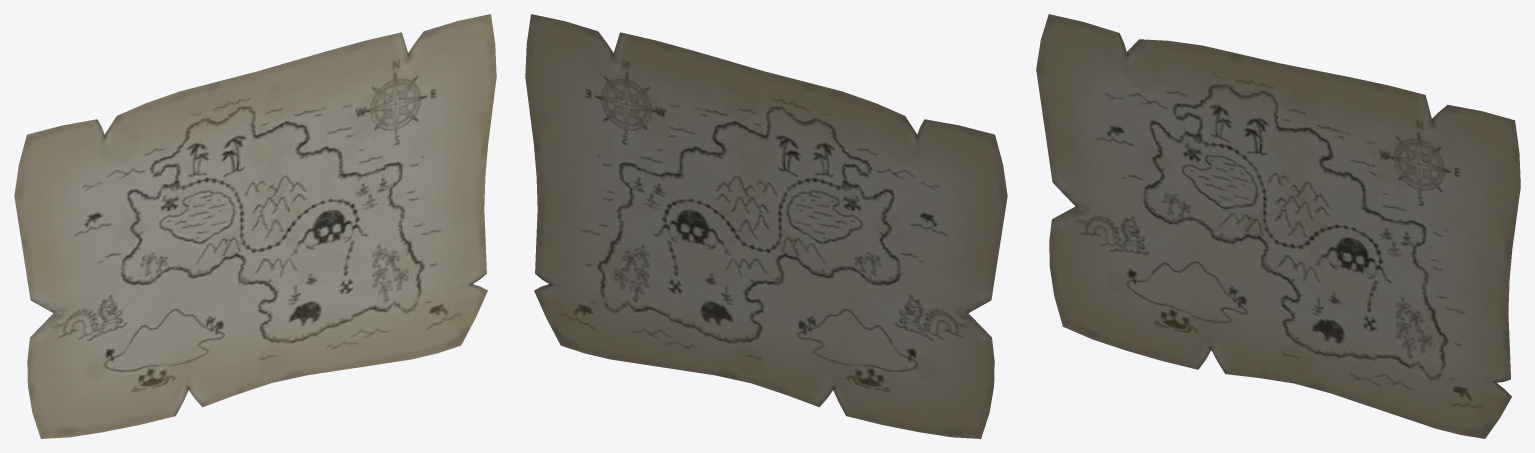
File: map.glb
The picture shows the model from 3 angles, left to right: view 1: azimuth 30°, elevation 25°; view 2: azimuth 150°, elevation 25°; view 3: azimuth 330°, elevation 25°; orthographic projection.
Visible parts, largest first — view 1: map_0; view 2: map_0; view 3: map_0.
Part boxes in pixels (x1=…): map_0: x1=14, y1=14, x2=496, y2=438; map_0: x1=525, y1=14, x2=1007, y2=438; map_0: x1=1036, y1=14, x2=1520, y2=438.
Bounding box in the file's own units: 1.99 × 1.3 × 2.89e-16.
Materials: 1 (1 with a texture image).
